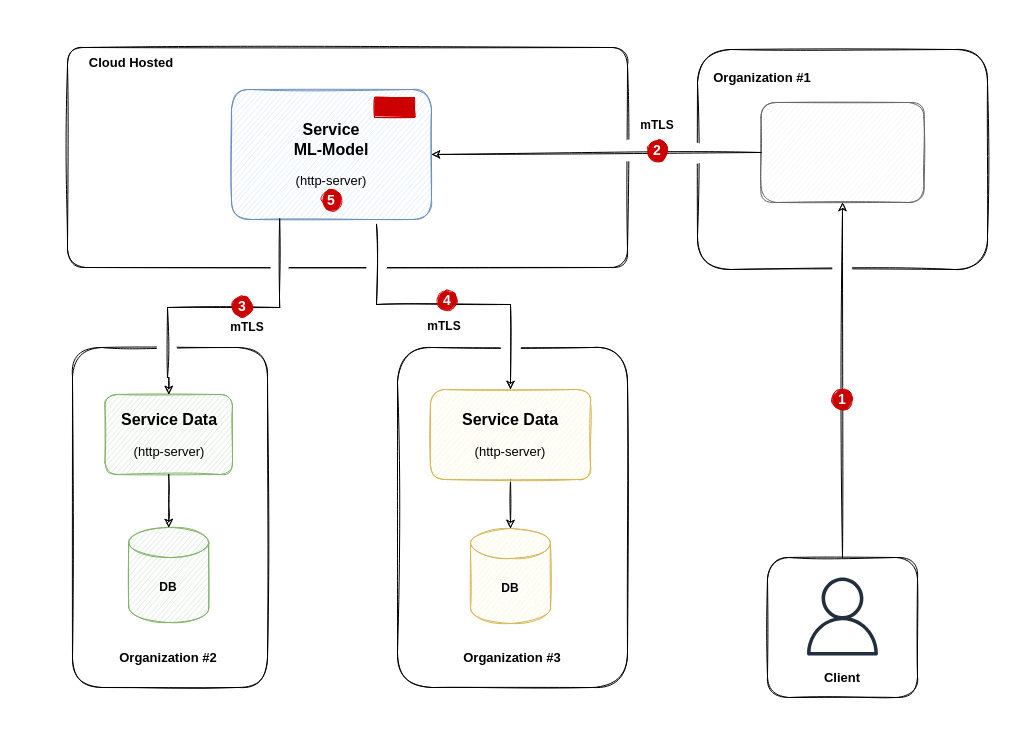
The diagram is 1034 pixels wide and 734 high, and some of its shapes have lost their labels. Each missing label, with the centre of its shape:
Service Send (http-server): the point at 842,152
SGX: the point at 394,107
